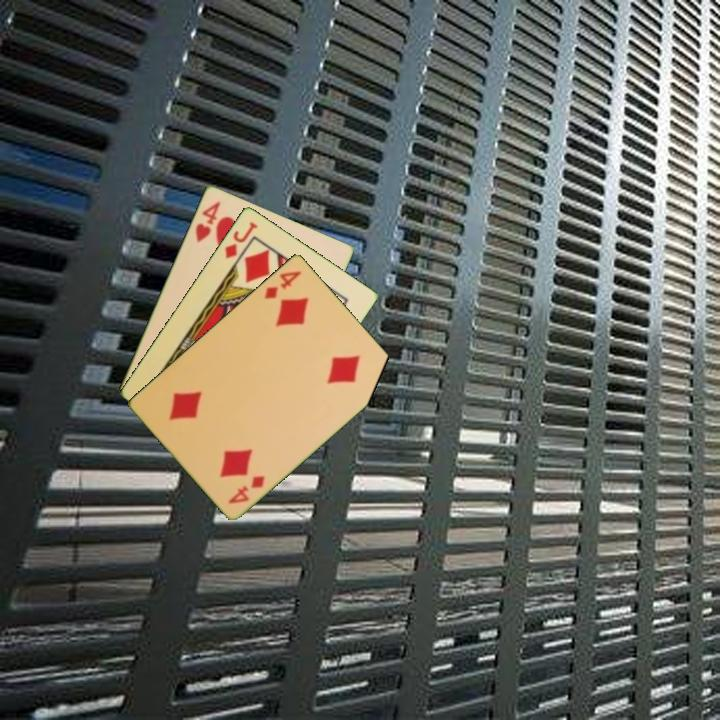4d: (261, 267, 304, 302), (225, 471, 268, 506)
4h: (192, 197, 223, 246)
Jd: (221, 218, 260, 261)
